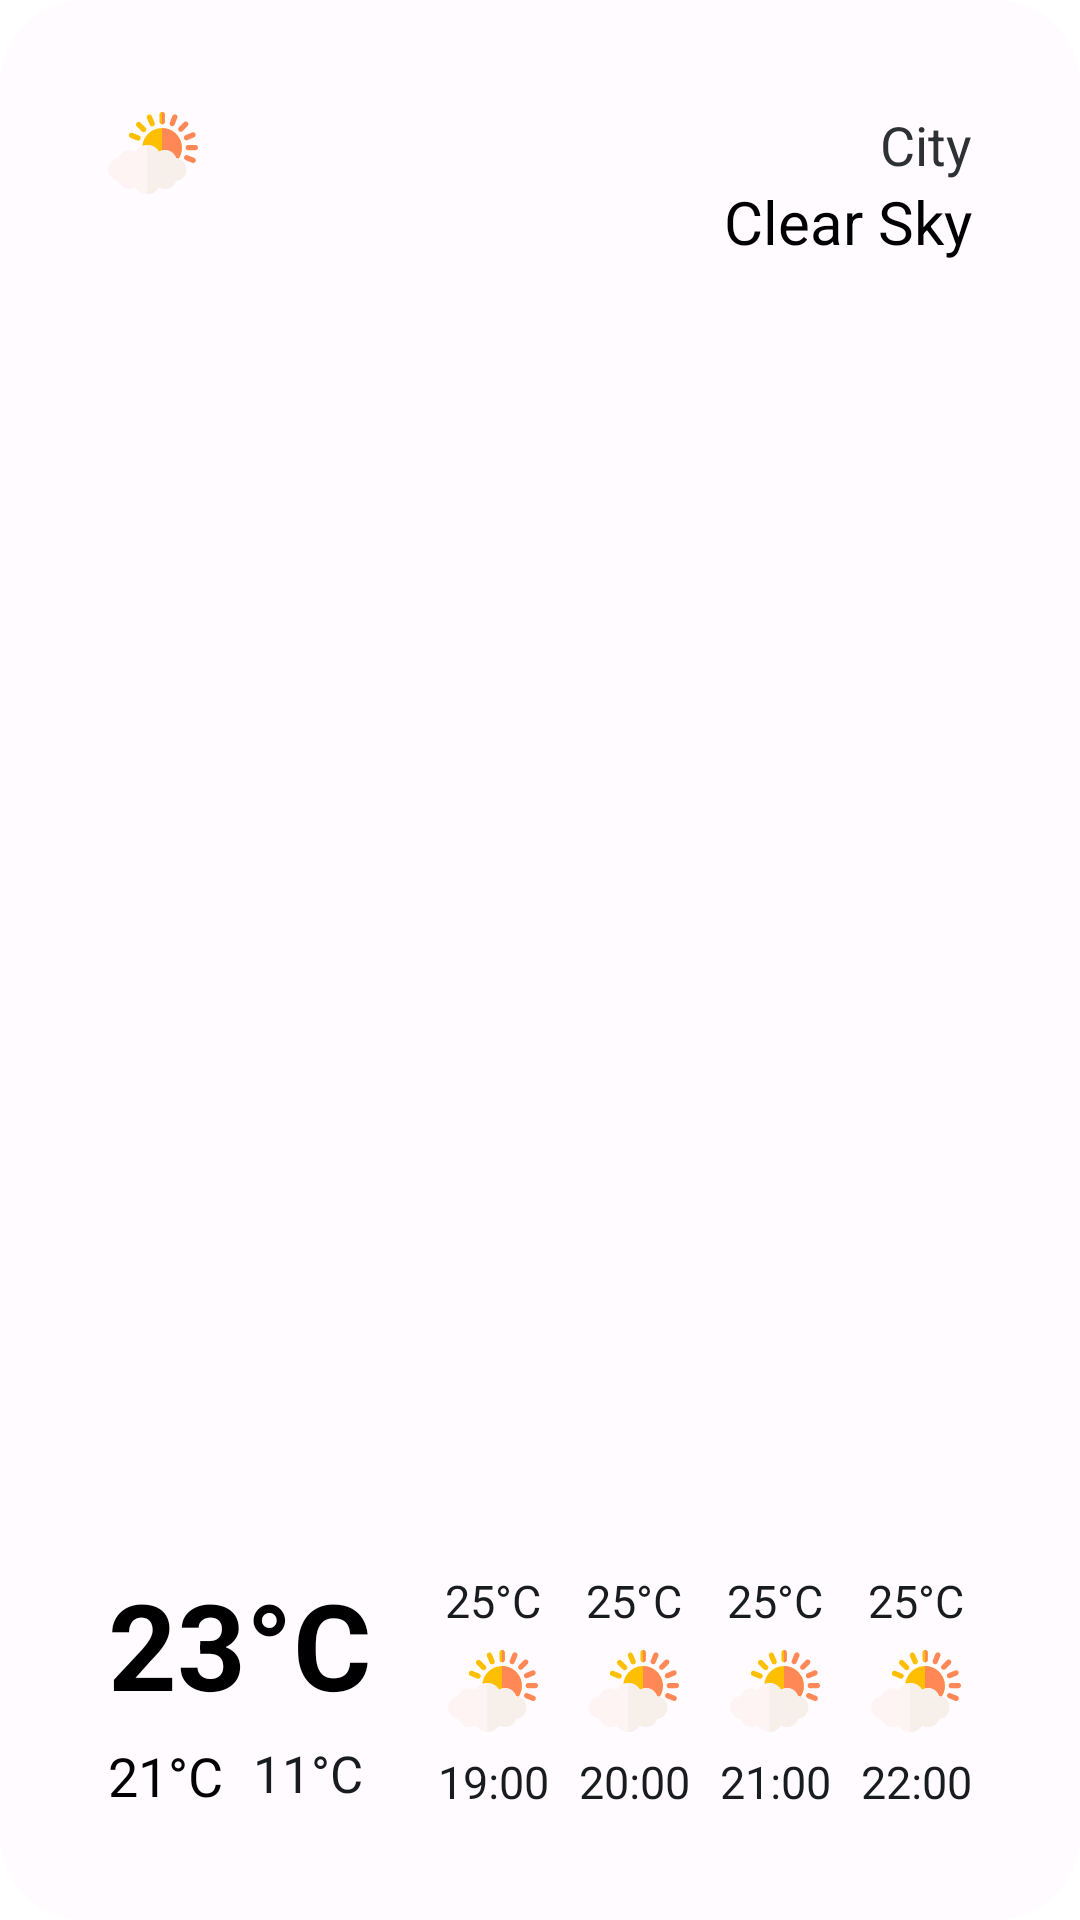

Where to tap for icons on this 1080 × 1920 app screen, as point (x, y):
clouds and sun: point (163, 137), point (503, 1675), point (644, 1675), point (785, 1675), point (926, 1675)
